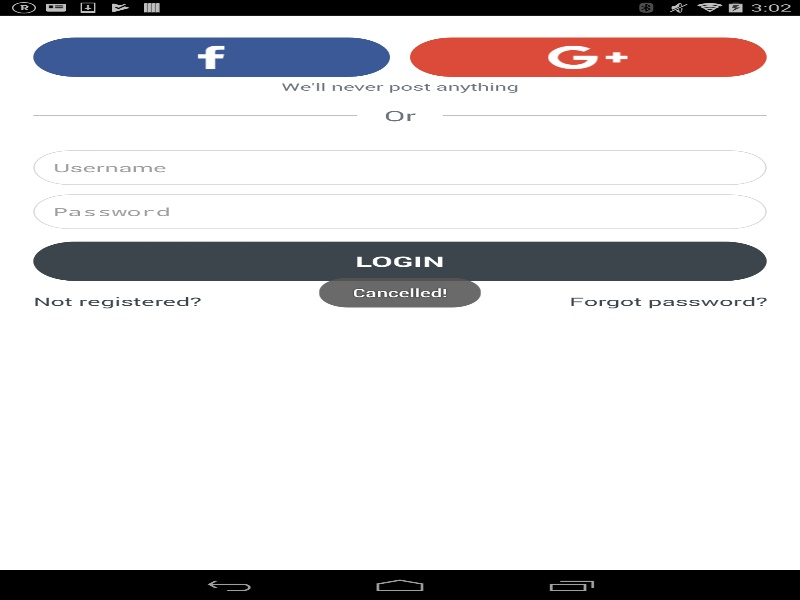Button: (33, 241, 766, 280)
Input: (33, 150, 766, 185), (33, 194, 766, 229)
